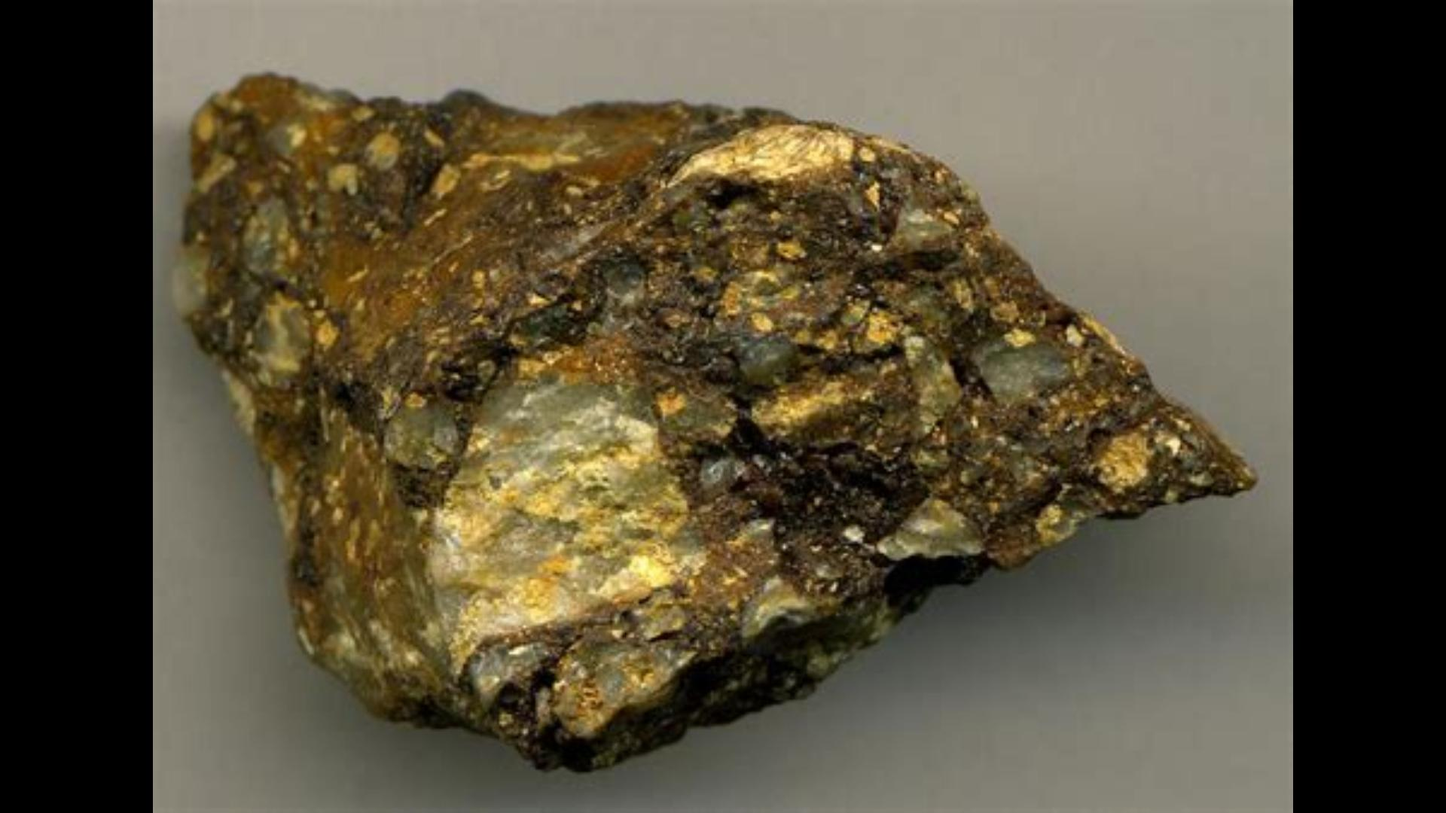rock: (189, 77, 1253, 767)
